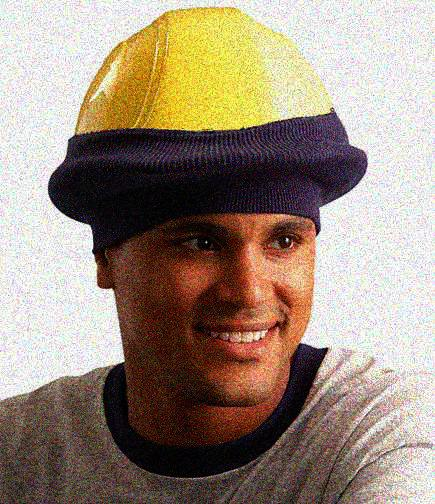helmet: (46, 5, 369, 418)
